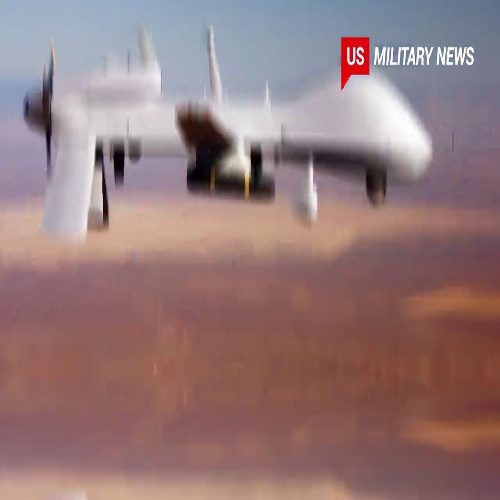uav: (19, 28, 434, 244)
